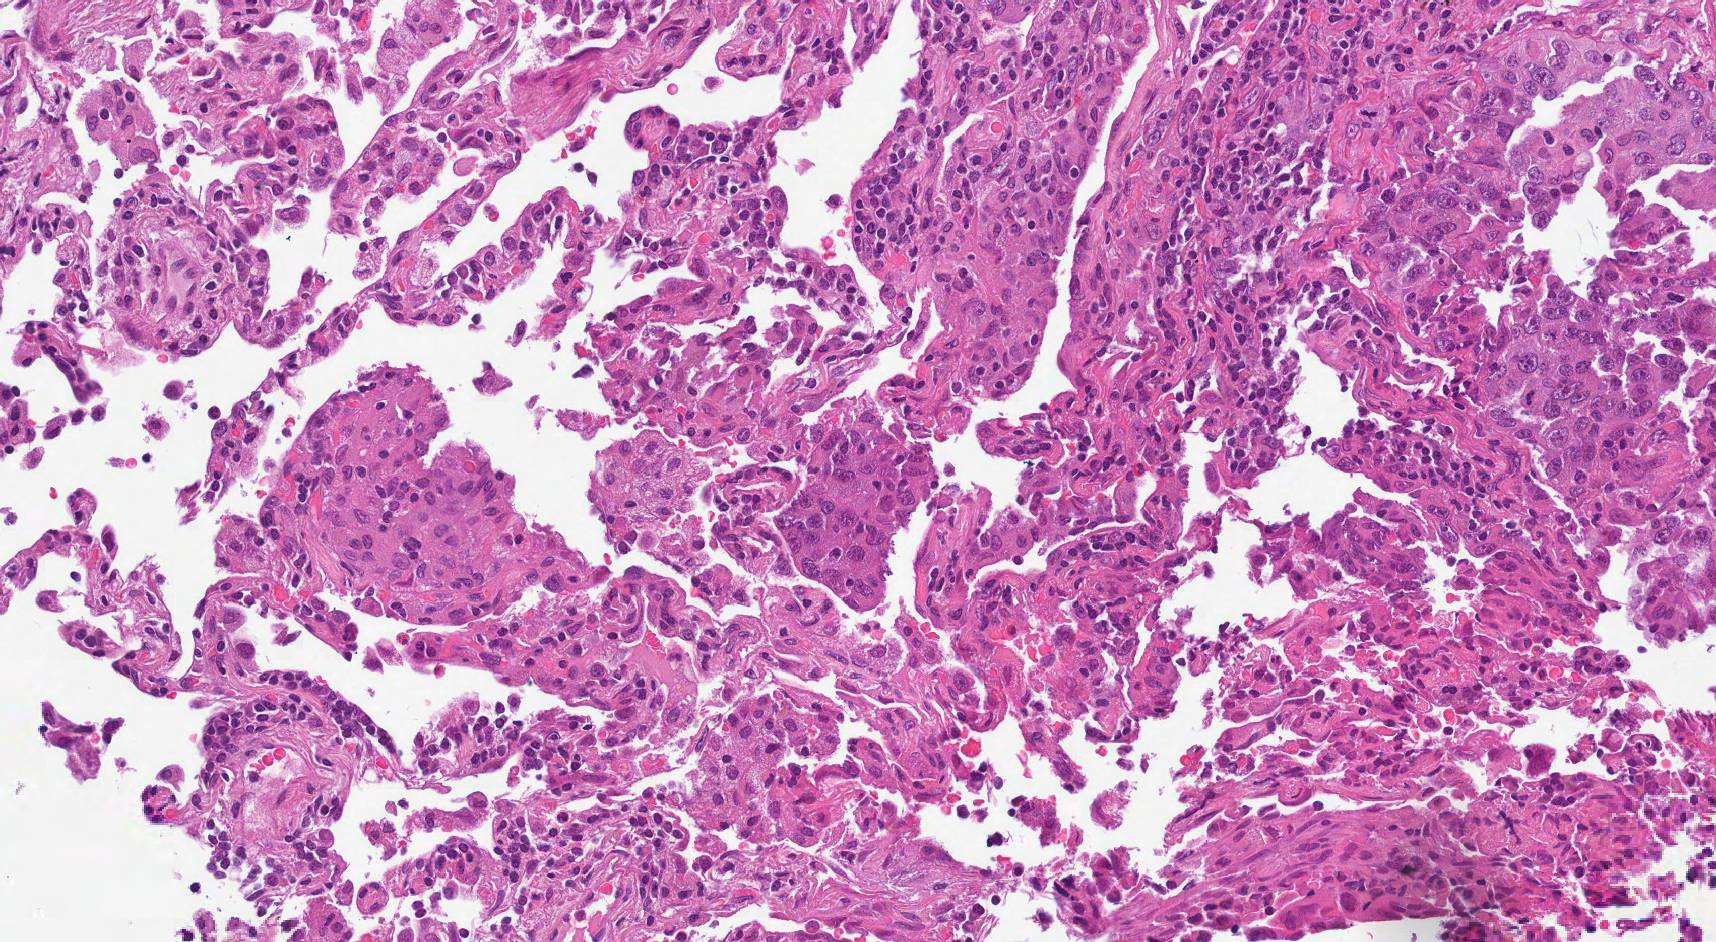stas: (774, 409, 935, 616), (1319, 503, 1428, 595)
